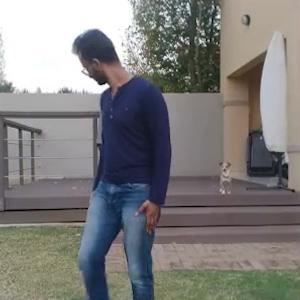follow: (62, 25, 171, 299)
